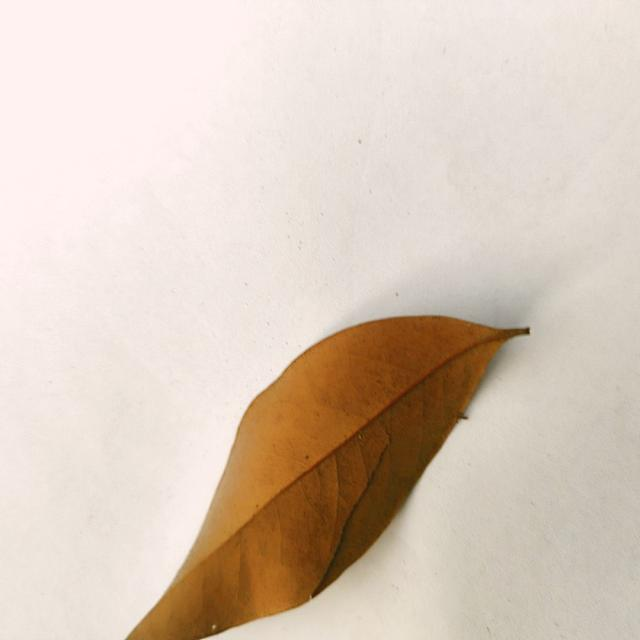Dry_Leaf-Lychee: (125, 316, 529, 639)
